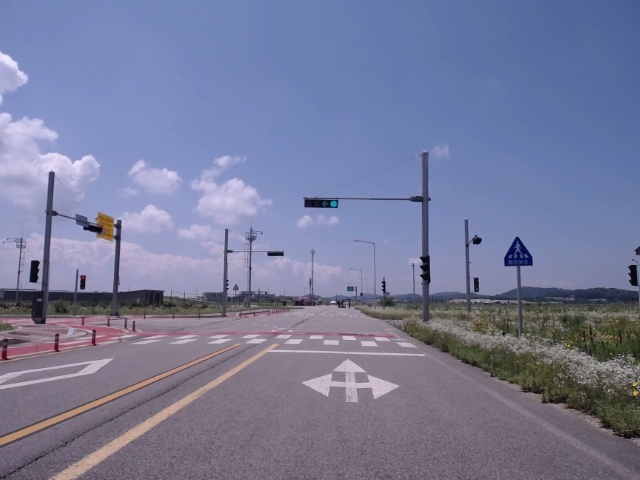all_green_4: (305, 195, 340, 210)
